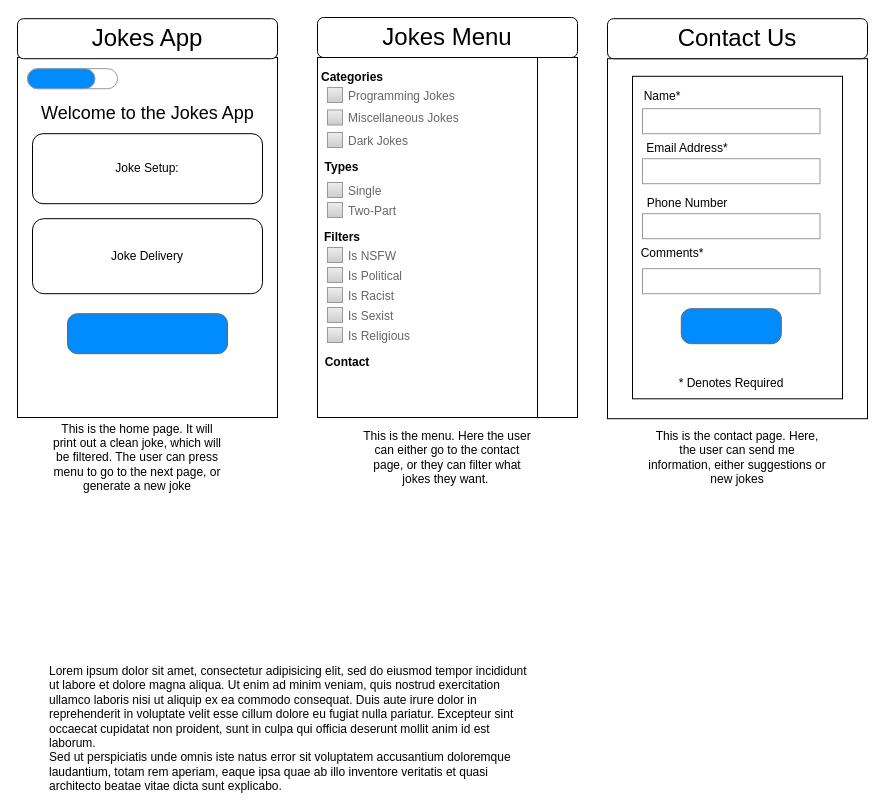
Some shapes in this 885 by 812 pixel diagram are drawn without their labels. The centre of each missing label's shape, as x and y in pixels:
"Generate New Joke" belongs at (x=147, y=333).
"Menu" belongs at (x=72, y=78).
"Submit" belongs at (x=730, y=326).
